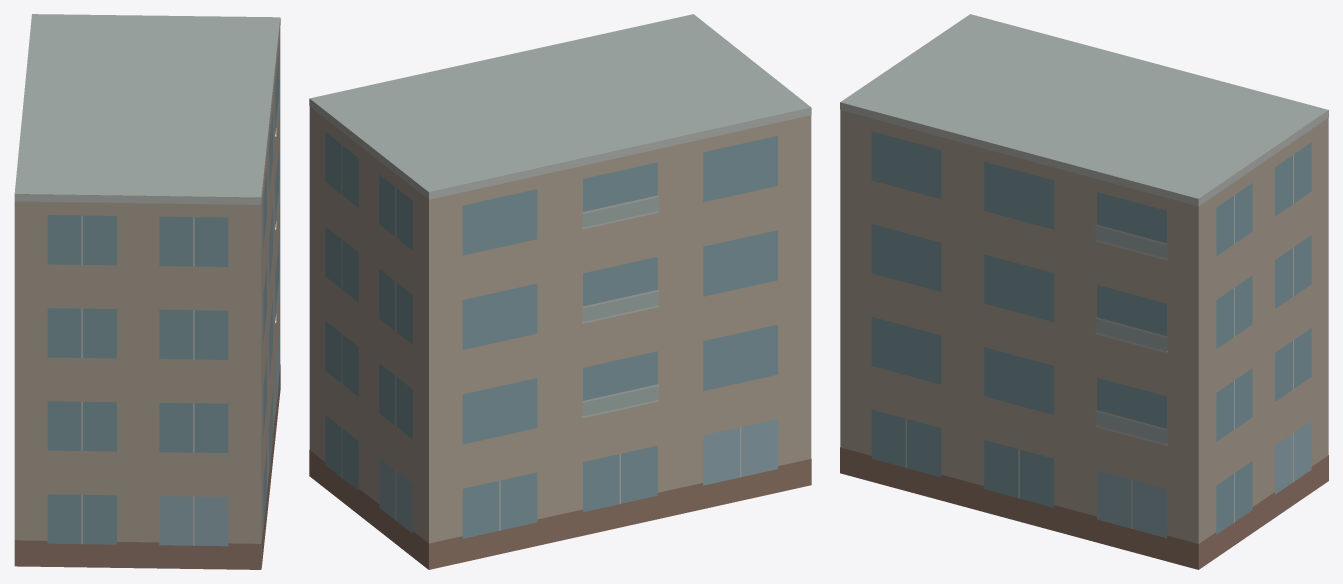
Rendered from survey-upis-32891509.glb.
3 views of the same model, side by side, from view 1: azimuth 30°, elevation 25°; view 2: azimuth 150°, elevation 25°; view 3: azimuth 270°, elevation 25° (orthographic).
Visible parts, largest first — view 1: survey-upis-32891509.tmp; view 2: survey-upis-32891509.tmp; view 3: survey-upis-32891509.tmp.
Boxes of the visible parts, box(x1,y1,x2,y2) form: survey-upis-32891509.tmp: box(14, 14, 280, 569); survey-upis-32891509.tmp: box(309, 14, 811, 569); survey-upis-32891509.tmp: box(840, 14, 1328, 569).
Size of the model in its own units: 12.83 by 12 by 14.34.
